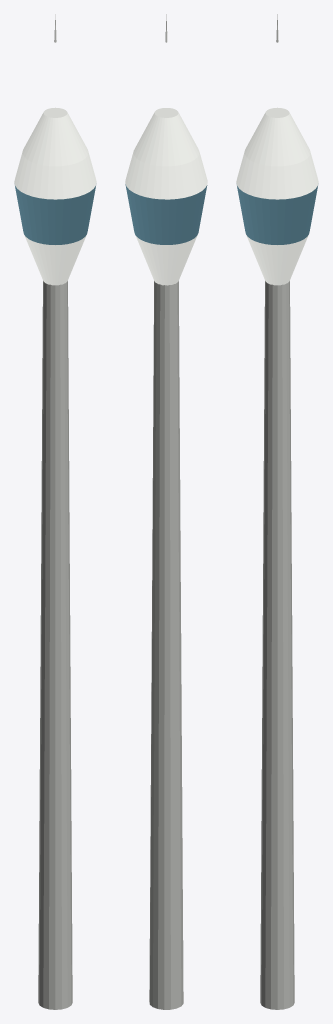
3 views of the same model, side by side, from view 1: azimuth 90°, elevation 25°; view 2: azimuth 150°, elevation 25°; view 3: azimuth 270°, elevation 25° (orthographic).
Visible parts, largest first — view 1: worldgen; view 2: worldgen; view 3: worldgen.
Boxes of the visible parts, x1=… form: worldgen: x1=14, y1=14, x2=96, y2=1009; worldgen: x1=125, y1=14, x2=207, y2=1009; worldgen: x1=236, y1=14, x2=318, y2=1009.
Size of the model in its own units: 47.98 by 634 by 47.98.
